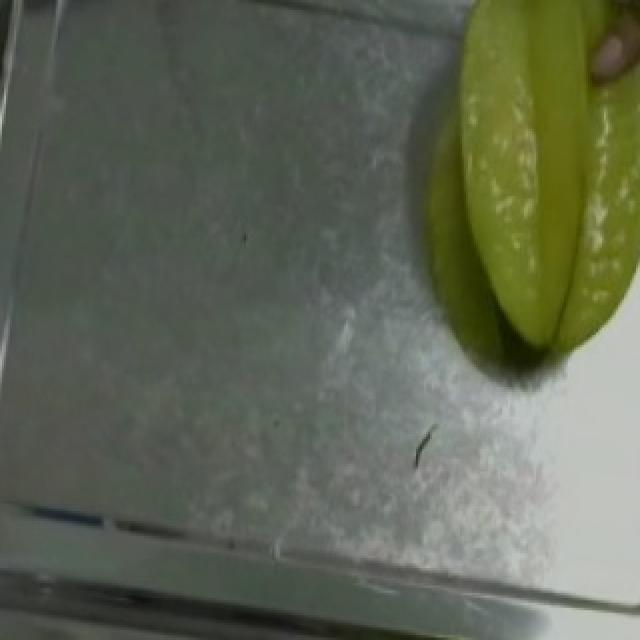fruit: (430, 7, 640, 382)
